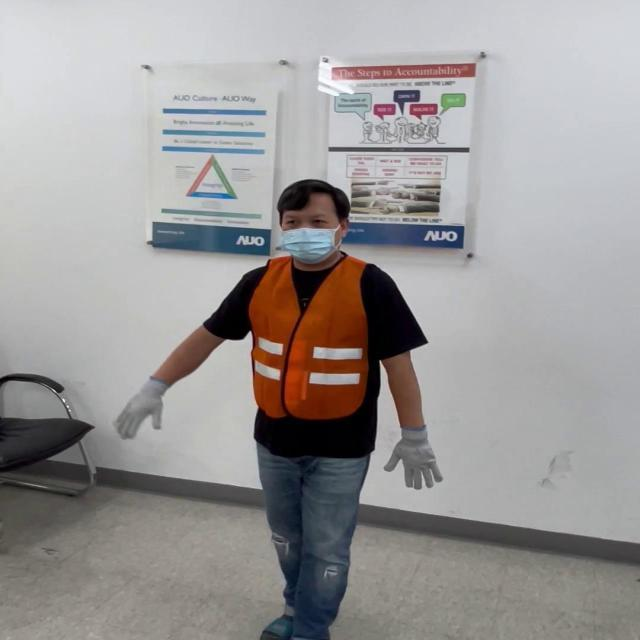gloved_hand: (385, 426, 446, 488), (120, 374, 175, 439)
